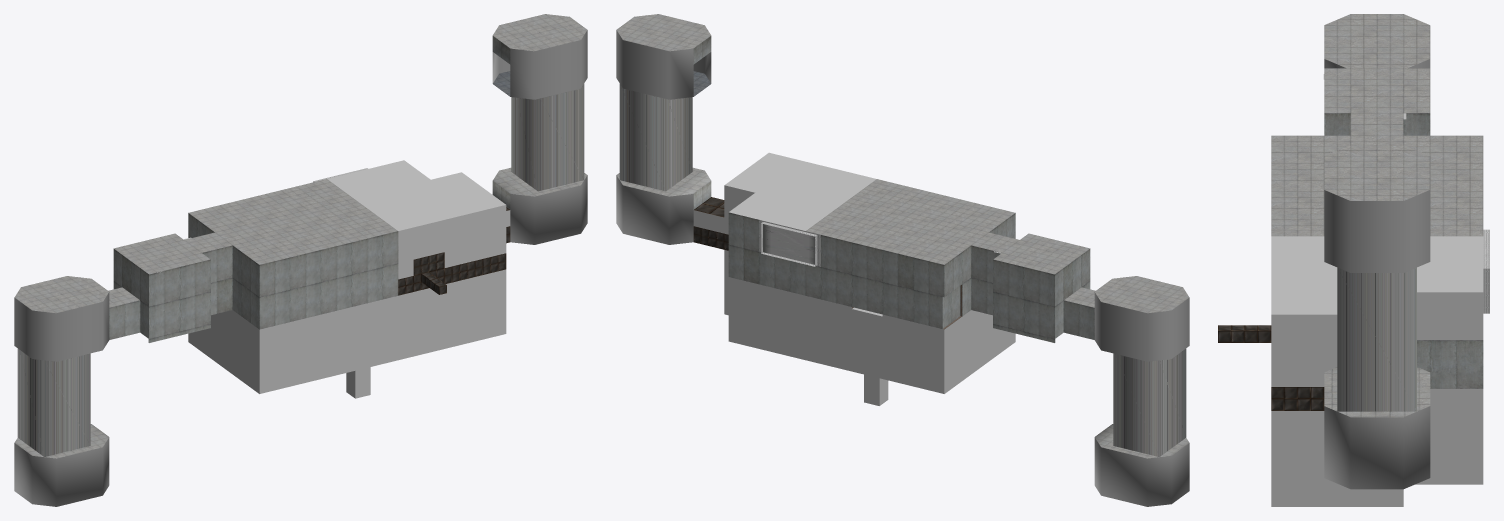
Rendered from testchmb_a_04.fbx.
3 views of the same model, side by side, from view 1: azimuth 30°, elevation 25°; view 2: azimuth 150°, elevation 25°; view 3: azimuth 270°, elevation 25° (orthographic). The views are drawn at different scales.
Visible parts, largest first — view 1: world_geometry, Room00_noportal, Room00_noportal.001; view 2: world_geometry, Room00_noportal, Room00_noportal.001, Observation_glass; view 3: world_geometry, Room00_noportal.001, Room00_noportal.
Boxes of the visible parts, left/top/right/bottom form: world_geometry: left=108, top=160, right=510, bottom=398; Room00_noportal: left=14, top=276, right=109, bottom=506; Room00_noportal.001: left=492, top=14, right=587, bottom=244; world_geometry: left=693, top=152, right=1095, bottom=405; Room00_noportal: left=1094, top=276, right=1189, bottom=506; Room00_noportal.001: left=616, top=14, right=711, bottom=244; Observation_glass: left=763, top=224, right=814, bottom=264; world_geometry: left=1218, top=68, right=1489, bottom=506; Room00_noportal.001: left=1324, top=145, right=1430, bottom=489; Room00_noportal: left=1324, top=14, right=1430, bottom=68.
Size of the model in its own units: 4389 by 1250 by 2560.
